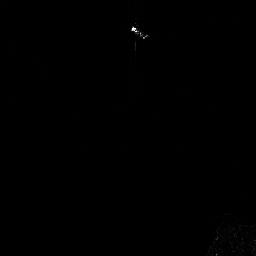ship: (130, 25, 147, 41)
